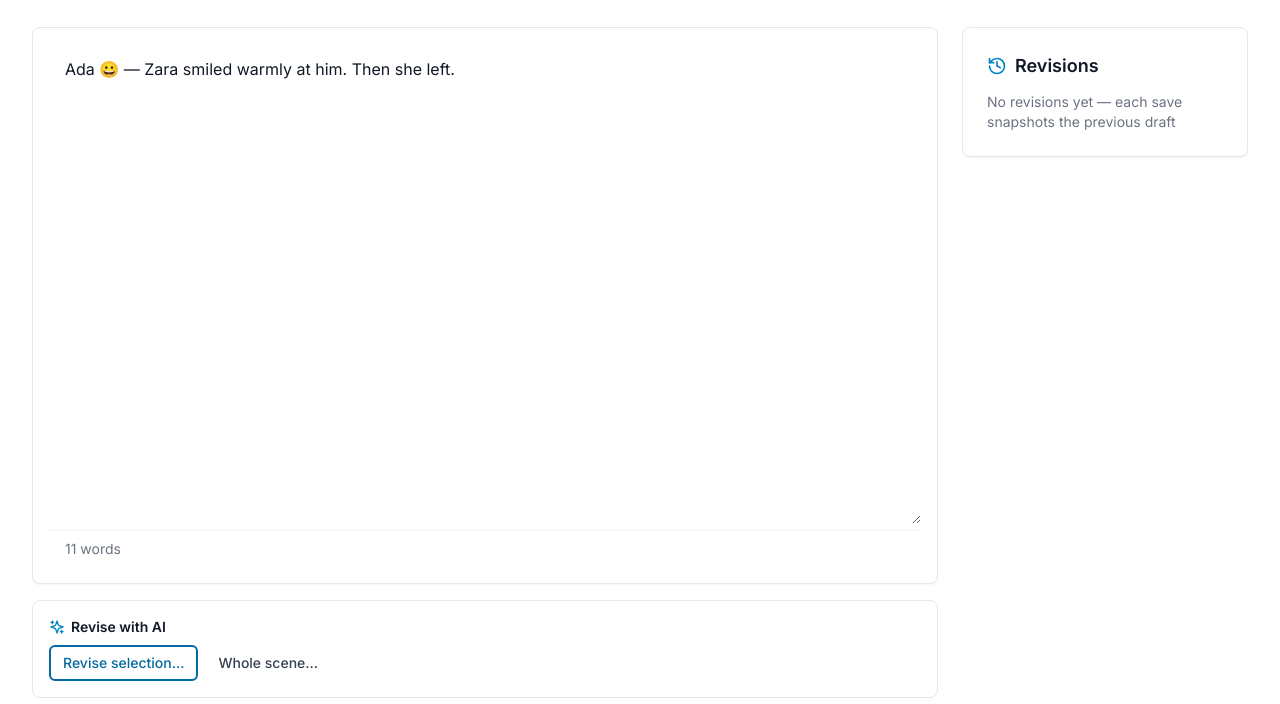
Revise from the scene editor (SPEC-25, W2-3) › asks for a selection, and refuses to revise unsaved edits
(page scrolled)
Click the button "Revise selection…": (124,663) top-left (49, 645), bottom-right (198, 681)
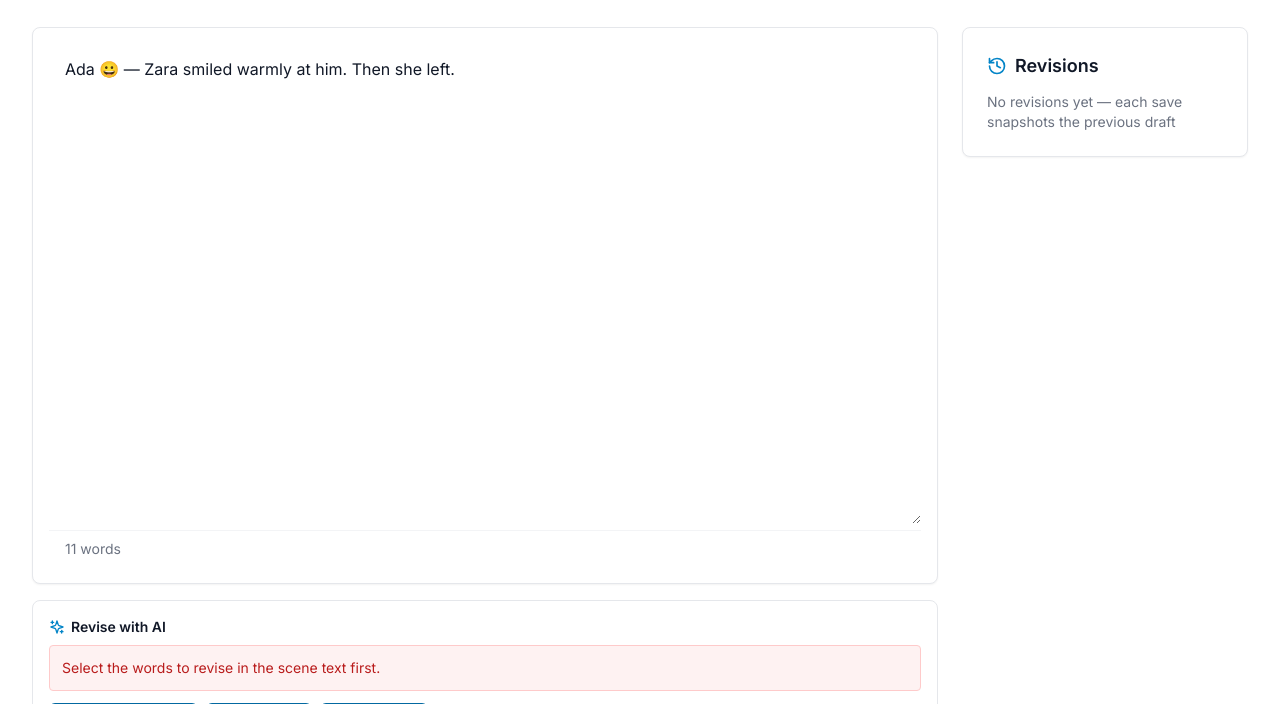
Expected: the message shows "Select the words to revise", top-left (62, 659), bottom-right (380, 676)
Replace the text in the text box with placeholder "Write your scene..." with "Something new.": (485,284) top-left (49, 44), bottom-right (921, 524)
(page scrolled)
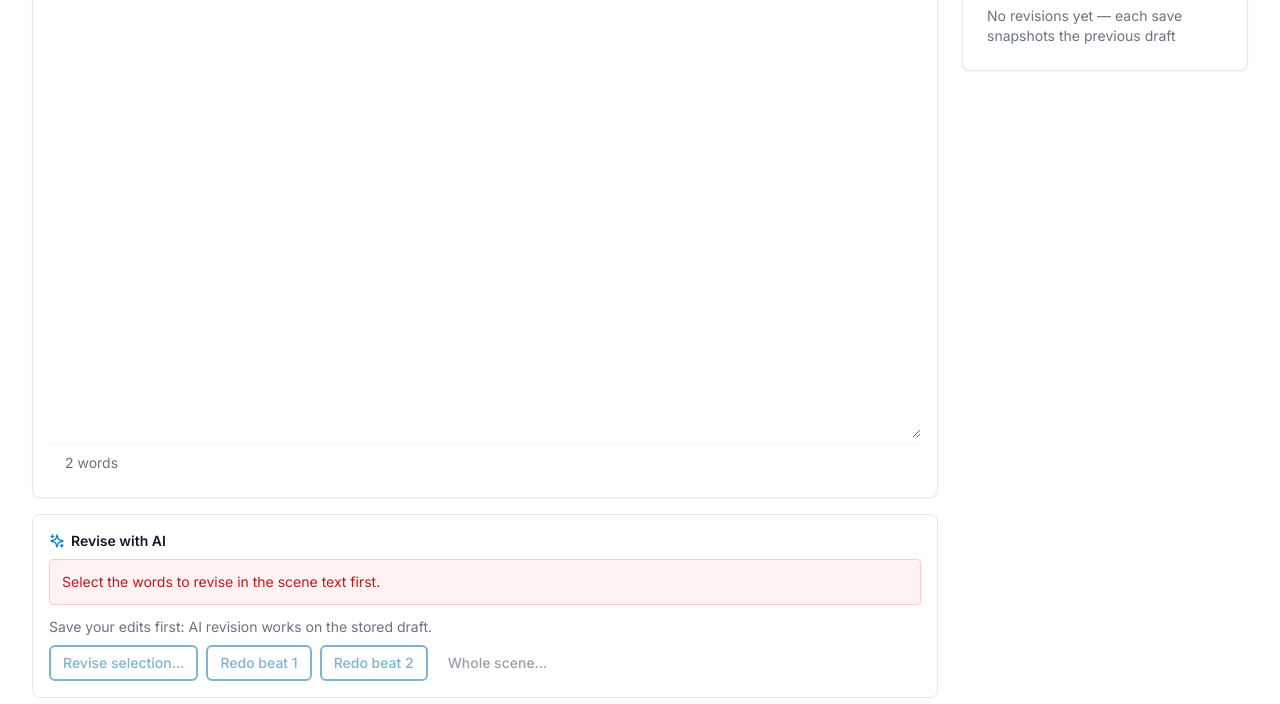
Expected: the text "Save your edits first" is shown, top-left (49, 618), bottom-right (432, 635)
Expected: the button "Revise selection…" is disabled, top-left (49, 645), bottom-right (198, 681)
